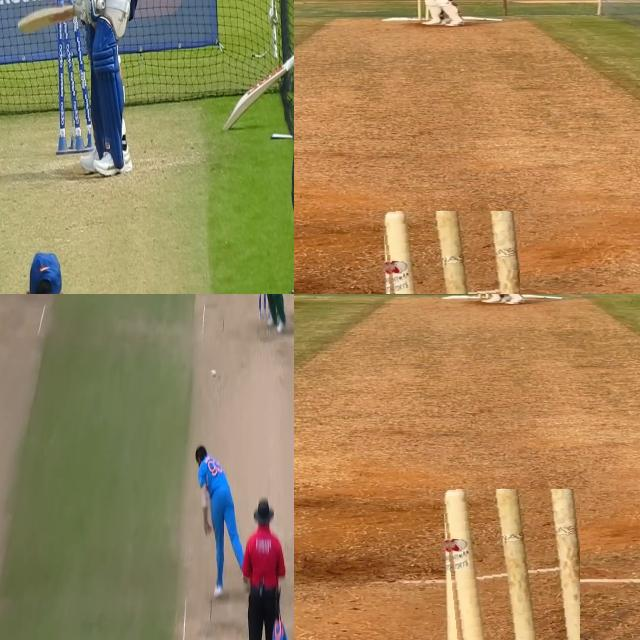Cricket ball: (210, 367, 216, 377)
Stumps: (442, 489, 579, 640), (382, 211, 519, 294), (56, 0, 91, 151)
